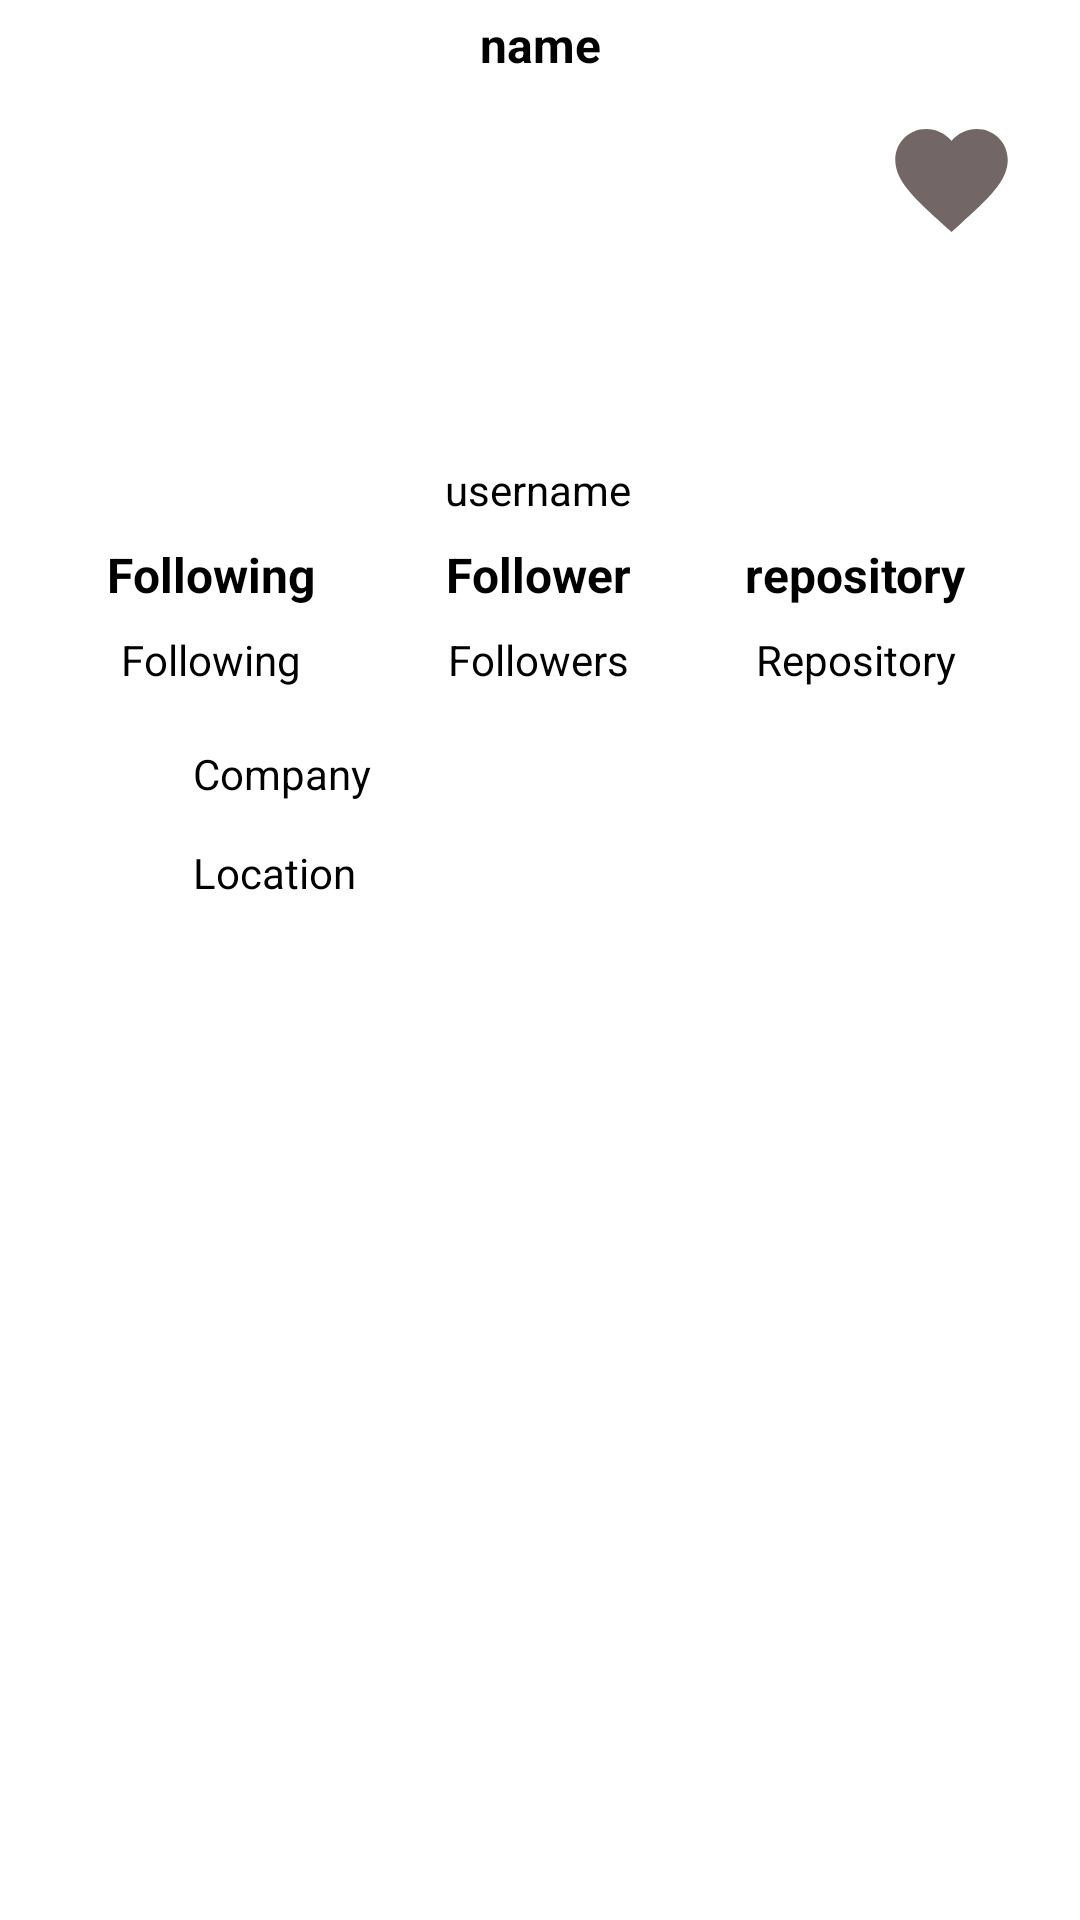

Icons on this 1080×1920 Android screen, each with the point to tap as (x=x, y=y):
favorite toggle: (x=951, y=180)
